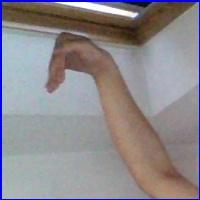del: (40, 30, 115, 103)
